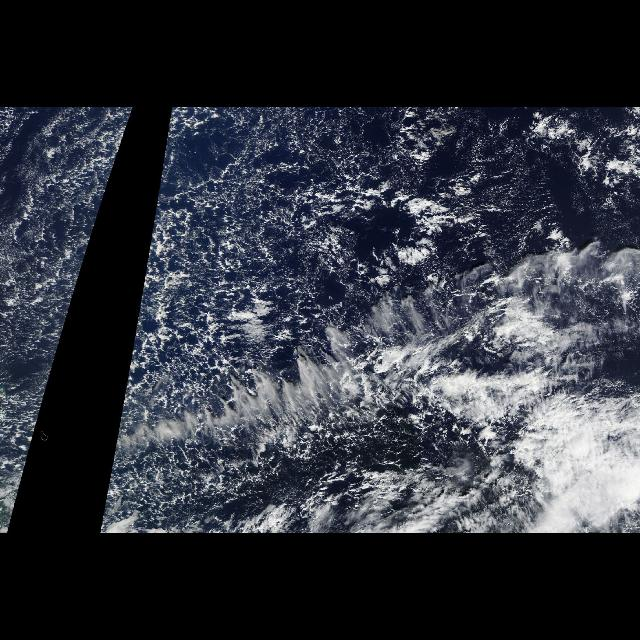Gravel: (104, 124, 302, 504), (4, 124, 128, 504)
Sugar: (158, 131, 544, 383)
